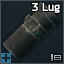MP5 3-lug thread protector: (0, 0, 64, 64)
